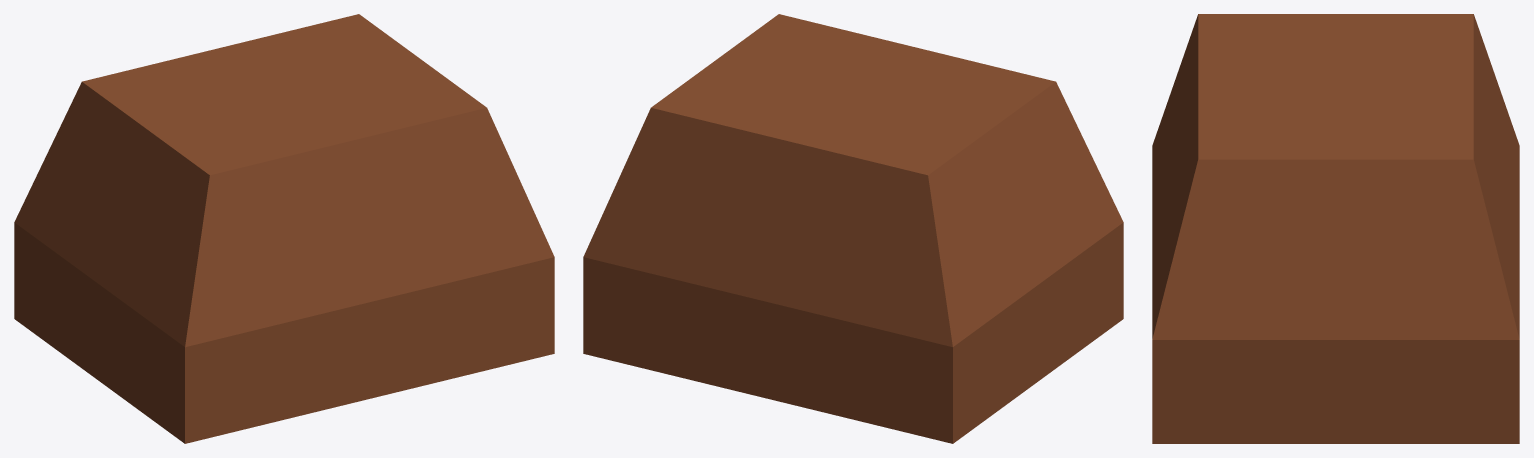
The model's file is ChocolateBar3.fbx.
The picture shows the model from 3 angles, left to right: view 1: azimuth 30°, elevation 25°; view 2: azimuth 150°, elevation 25°; view 3: azimuth 270°, elevation 25°; orthographic projection. The views are drawn at different scales.
Parts seen in each view (by area): view 1: Cube; view 2: Cube; view 3: Cube.
Boxes of the visible parts, x1,y1,x2,y2 form: Cube: (14,14,554,443); Cube: (583,14,1123,443); Cube: (1152,14,1519,443).
Bounding box in the file's own units: 0.1 × 0.0625 × 0.08.
